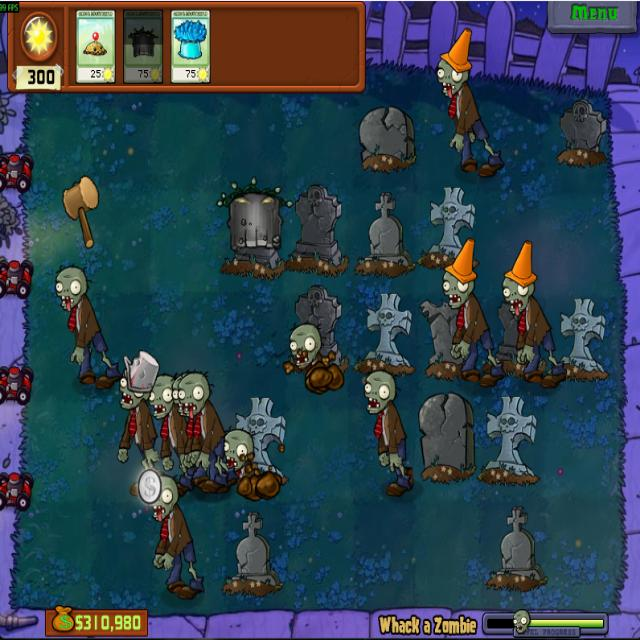conehead: (499, 240, 535, 317), (436, 29, 472, 98), (441, 239, 476, 308)
damaged_buckethead: (116, 351, 160, 408)
grave: (479, 393, 539, 488), (414, 392, 476, 481), (487, 503, 547, 590), (232, 396, 287, 490), (359, 190, 415, 280), (487, 296, 546, 378), (420, 295, 475, 381), (424, 185, 478, 272), (294, 186, 346, 276), (359, 292, 415, 375), (554, 298, 608, 380), (295, 284, 346, 369), (227, 514, 281, 592), (358, 105, 417, 174), (556, 99, 606, 166)
zombie: (52, 261, 88, 312), (362, 369, 397, 415), (145, 476, 180, 520), (288, 324, 321, 368), (179, 374, 211, 414), (224, 428, 252, 470), (148, 375, 175, 417), (173, 370, 196, 414)
